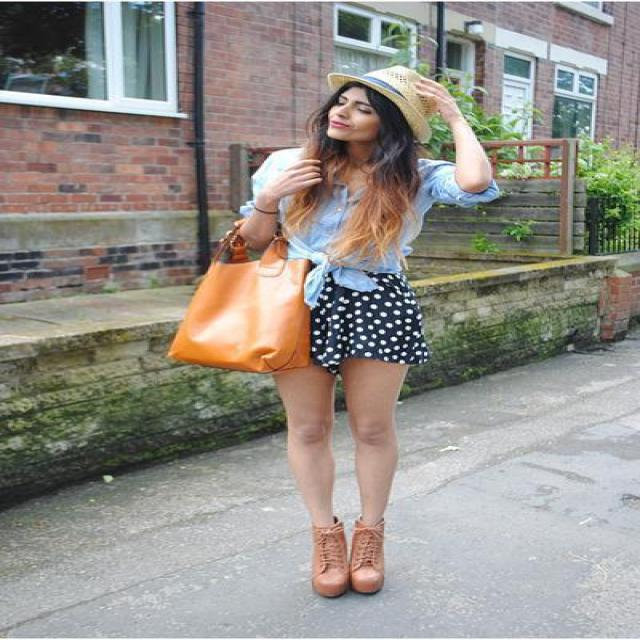bag: (168, 222, 317, 371)
hat: (365, 64, 451, 114)
shirt: (234, 148, 478, 310)
shoe: (310, 528, 384, 601)
skirt: (309, 271, 424, 379)
